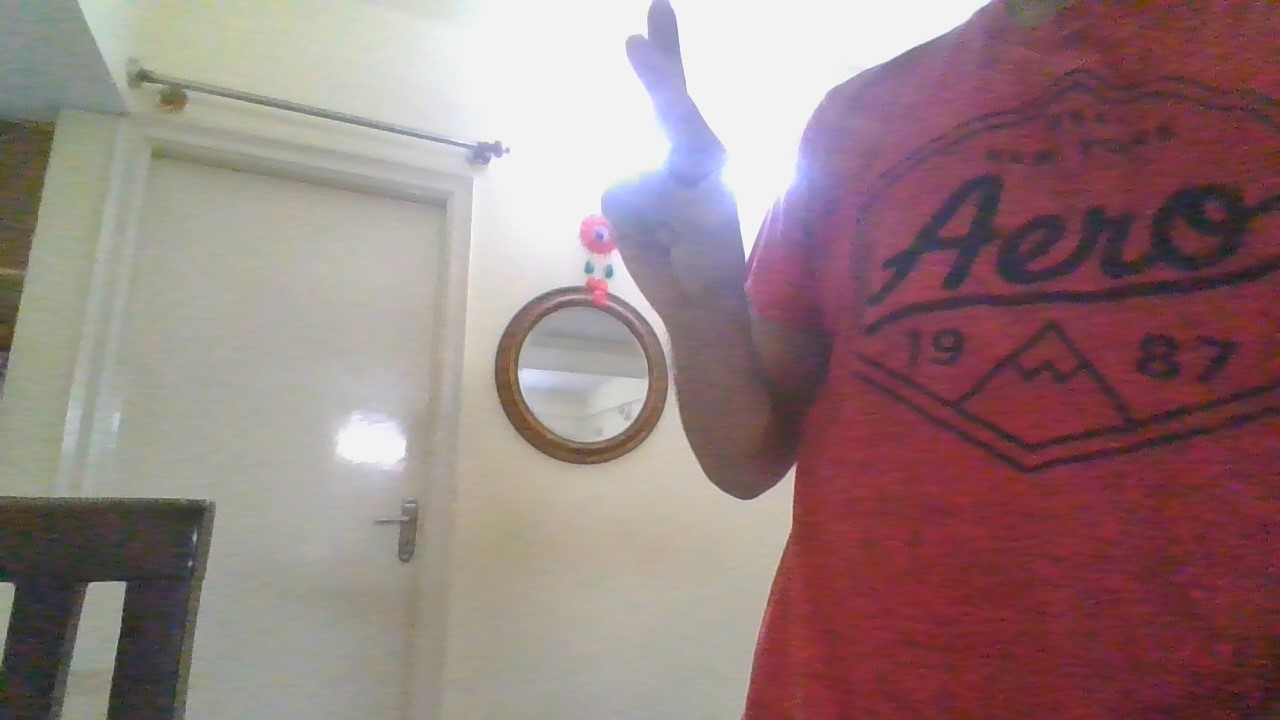r: (591, 1, 754, 317)
